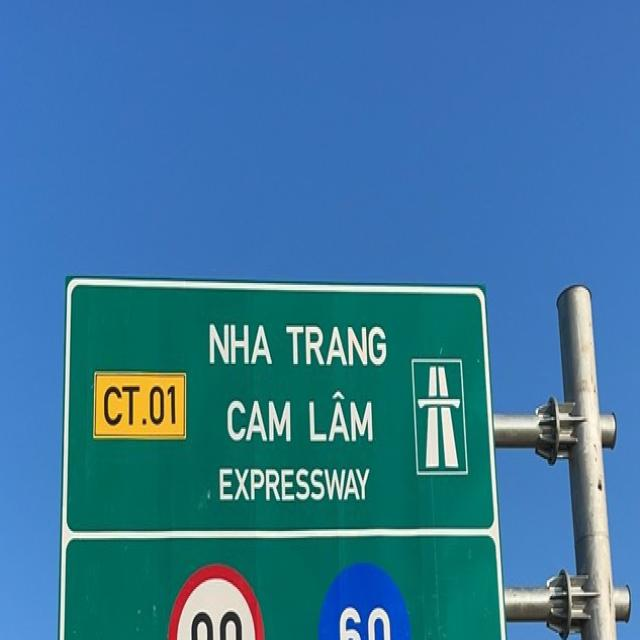Speed Limit -90-: (163, 557, 269, 640)
